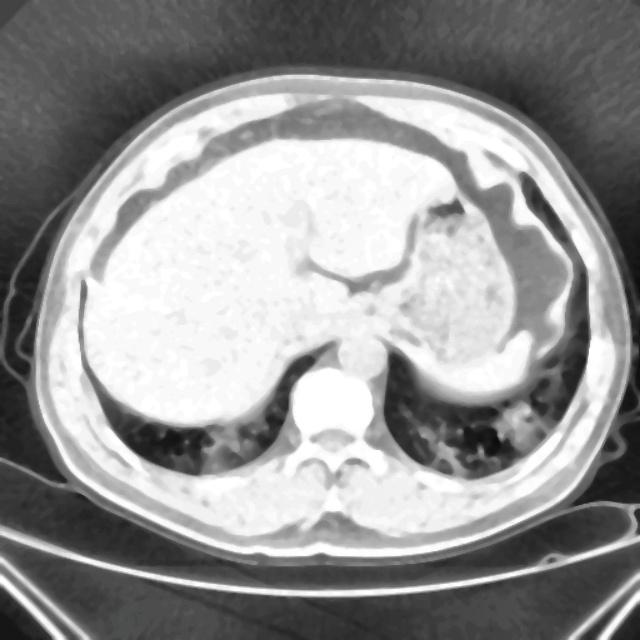covid: (15, 69, 636, 565)
